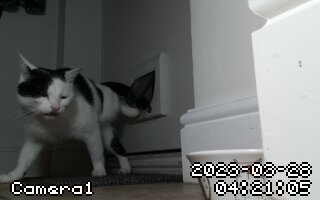bad: (7, 50, 148, 189)
